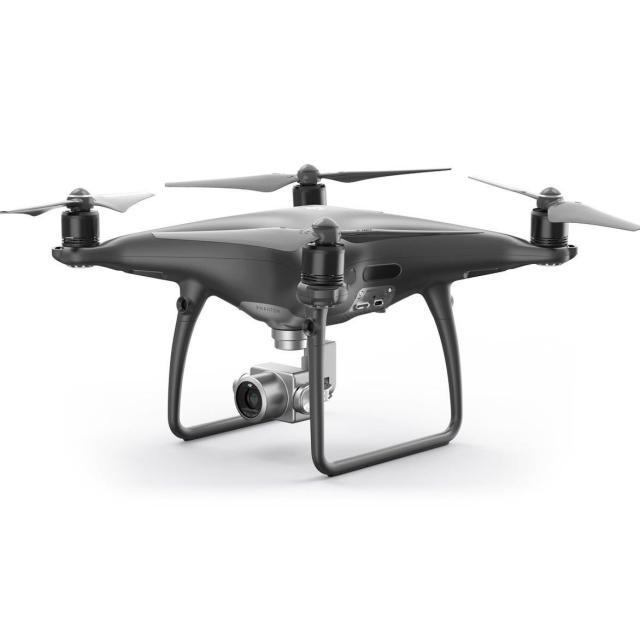drones: (0, 144, 640, 491)
